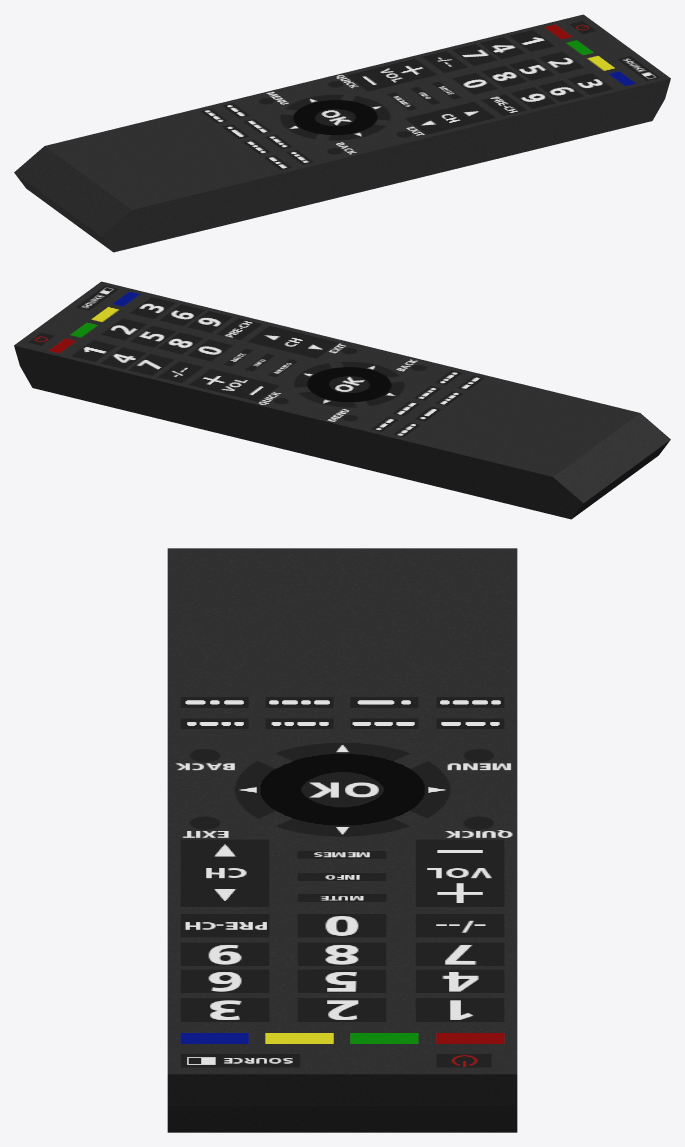
File: TV Remote.fbx
3 views of the same model, one above another, from view 1: azimuth 30°, elevation 25°; view 2: azimuth 150°, elevation 25°; view 3: azimuth 270°, elevation 25° (orthographic). The views are drawn at different scales.
Parts seen in each view (by area): view 1: Cube; view 2: Cube; view 3: Cube.
Part boxes in pixels (x1=…): Cube: x1=14, y1=14, x2=670, y2=252; Cube: x1=14, y1=281, x2=670, y2=519; Cube: x1=167, y1=548, x2=517, y2=1132.
Bounding box in the file's own units: 31.71 × 2.02 × 8.42.
Materials: 1 (1 with a texture image).
